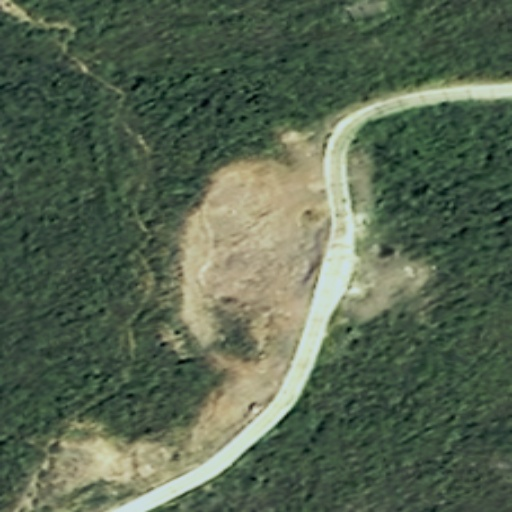landslide: (178, 156, 331, 398)
